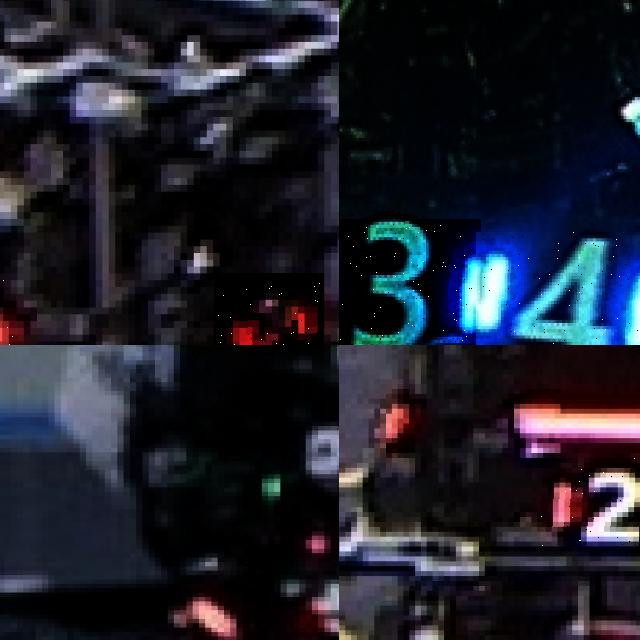B3: (339, 219, 481, 345)
B4: (476, 232, 640, 345)
R2: (537, 457, 640, 546), (213, 273, 324, 345)
R3: (205, 566, 339, 640)
